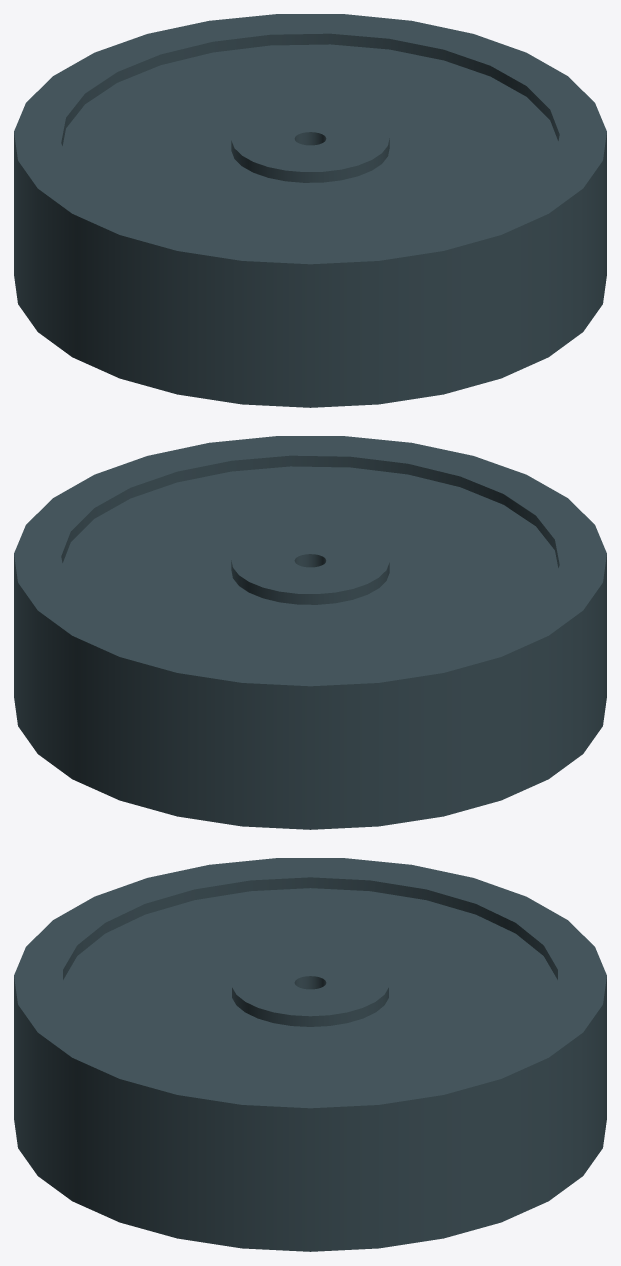
The model's file is motion-drive-wheel.glb.
3 renders of one model, top to bottom at view 1: azimuth 30°, elevation 25°; view 2: azimuth 150°, elevation 25°; view 3: azimuth 270°, elevation 25°, orthographic.
Bounding box in the file's own units: 0.1495 × 0.05 × 0.1497.
